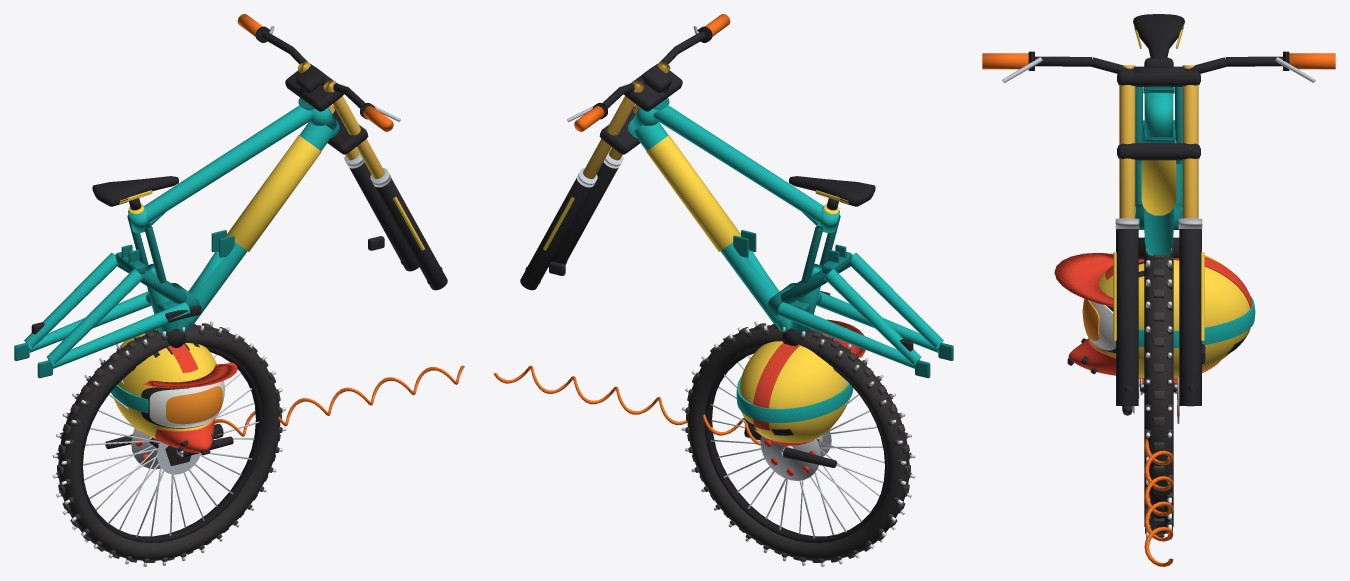
The model's file is mtb.glb.
3 views of the same model, side by side, from view 1: azimuth 30°, elevation 25°; view 2: azimuth 150°, elevation 25°; view 3: azimuth 270°, elevation 25° (orthographic). The views are drawn at different scales.
Parts seen in each view (by area): view 1: mtb_wheel_f, mtb_frame, head_fullface, mtb_swingarm, mtb_fork_upper, mtb_fork_lower, mtb_cranks, mtb_spring, mtb_studs; view 2: mtb_wheel_f, mtb_frame, head_fullface, mtb_swingarm, mtb_fork_upper, mtb_fork_lower, mtb_spring, mtb_studs, mtb_cranks; view 3: mtb_fork_upper, head_fullface, mtb_fork_lower, mtb_frame, mtb_wheel_f, mtb_spring, mtb_swingarm, mtb_studs.
Boxes of the visible parts, x1,y1,x2,y2 form: mtb_wheel_f: [56, 323, 282, 562]; mtb_frame: [92, 98, 339, 347]; head_fullface: [111, 330, 237, 455]; mtb_swingarm: [14, 244, 190, 378]; mtb_fork_upper: [237, 14, 400, 178]; mtb_fork_lower: [344, 149, 447, 290]; mtb_cranks: [105, 434, 233, 474]; mtb_spring: [214, 365, 464, 436]; mtb_studs: [52, 321, 286, 566]; mtb_wheel_f: [685, 323, 911, 562]; mtb_frame: [628, 98, 875, 346]; head_fullface: [736, 319, 865, 445]; mtb_swingarm: [777, 244, 953, 378]; mtb_fork_upper: [567, 14, 730, 178]; mtb_fork_lower: [520, 149, 623, 290]; mtb_spring: [493, 365, 760, 445]; mtb_studs: [681, 321, 915, 566]; mtb_cranks: [781, 431, 836, 467]; mtb_fork_upper: [982, 51, 1335, 218]; head_fullface: [1054, 252, 1255, 379]; mtb_fork_lower: [1113, 218, 1205, 406]; mtb_frame: [1133, 14, 1184, 259]; mtb_wheel_f: [1140, 249, 1179, 537]; mtb_spring: [1144, 438, 1173, 566]; mtb_swingarm: [1135, 120, 1182, 218]; mtb_studs: [1146, 248, 1171, 539].
Size of the model in its own units: 1.48 by 1.47 by 0.84.
